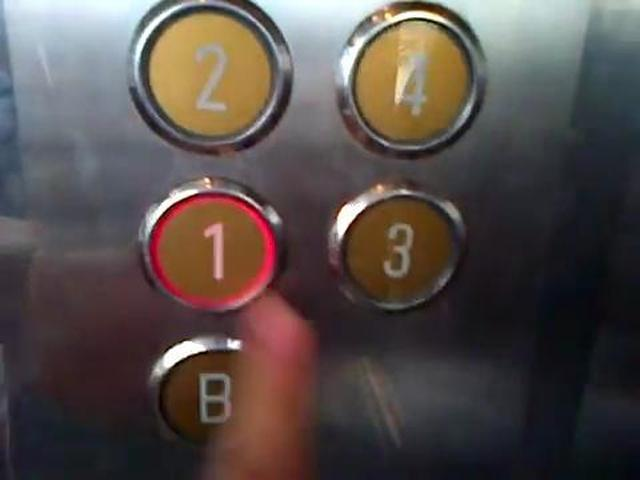1: (135, 176, 286, 316)
2: (124, 0, 294, 155)
3: (324, 176, 465, 314)
4: (330, 0, 484, 157)
B: (145, 334, 279, 460)
